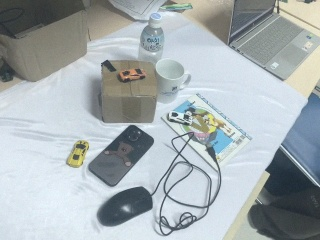book: (162, 91, 254, 167)
bottle: (136, 11, 166, 66)
box: (1, 1, 90, 83), (100, 57, 159, 125)
cup: (154, 58, 191, 107)
mouse: (96, 186, 154, 228)
phone: (87, 123, 156, 188)
toy_car: (66, 140, 90, 168), (166, 109, 192, 128), (119, 68, 146, 82)
